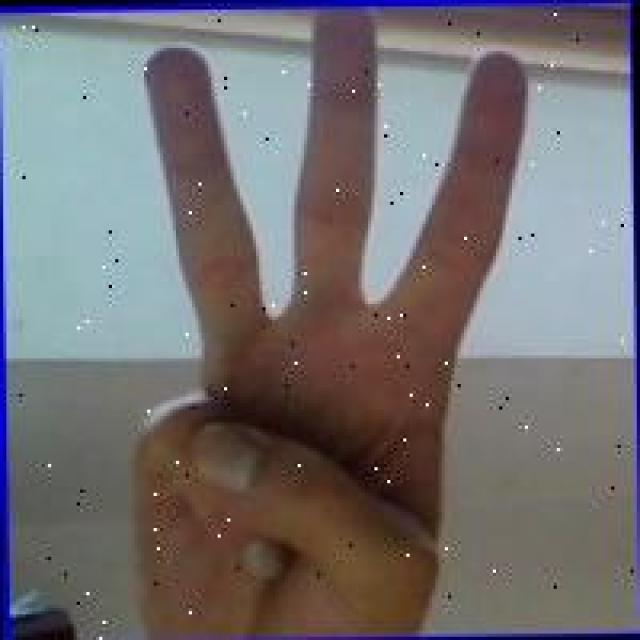W: (120, 3, 542, 634)
